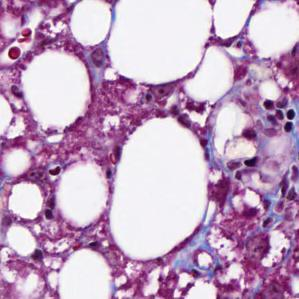inflammation: (257, 88, 299, 136)
